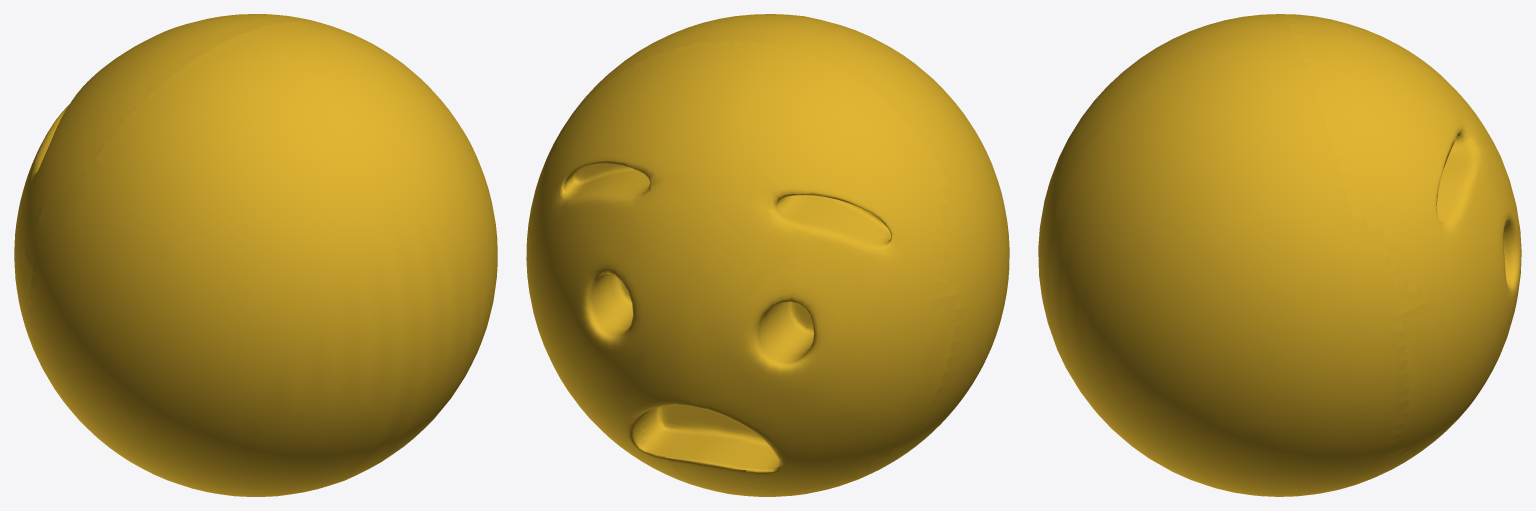
The model's file is worried 3DS.glb.
3 views of the same model, side by side, from view 1: azimuth 30°, elevation 25°; view 2: azimuth 150°, elevation 25°; view 3: azimuth 270°, elevation 25° (orthographic).
Visible parts, largest first — view 1: Group41740; view 2: Group41740; view 3: Group41740.
Part boxes in pixels (<box>): Group41740: <box>14,14,497,496</box>; Group41740: <box>526,14,1009,496</box>; Group41740: <box>1038,14,1521,496</box>.
Size of the model in its own units: 0.4933 by 0.4938 by 0.4936.
